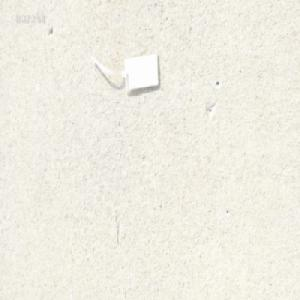LuggageTag: (88, 48, 161, 94)
